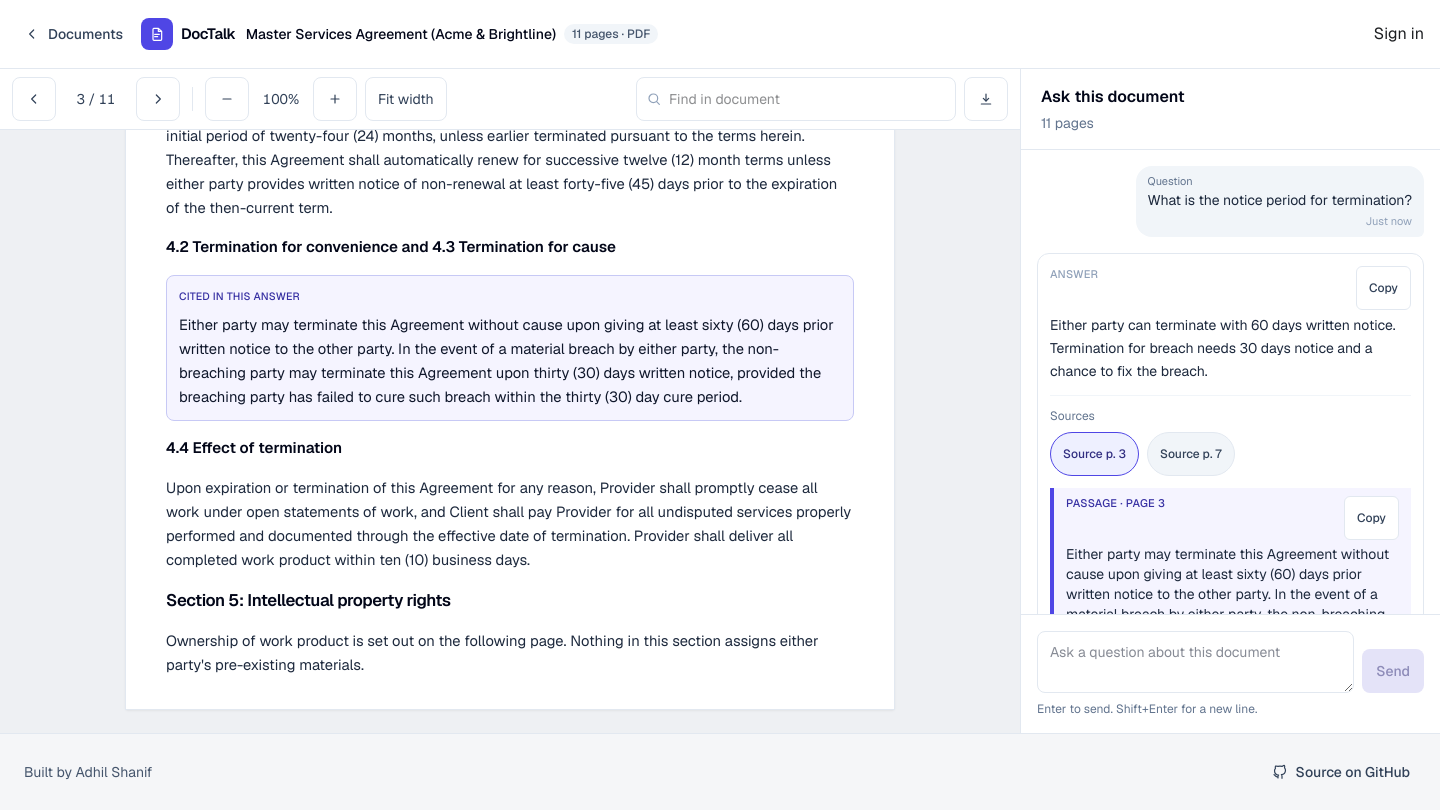
Test: DocumentWorkspace citations › jumps the viewer to the cited page
The width and height of the screenshot is (1440, 810).
(page scrolled)
Expected: the text "3 / 11" is shown, [76,89,116,108]
Expected: the text "11 pages" is shown, [1041,114,1094,132]
Click the button with aria-label "Show source on page 7" at (1191, 454), box [1147,432,1235,476]
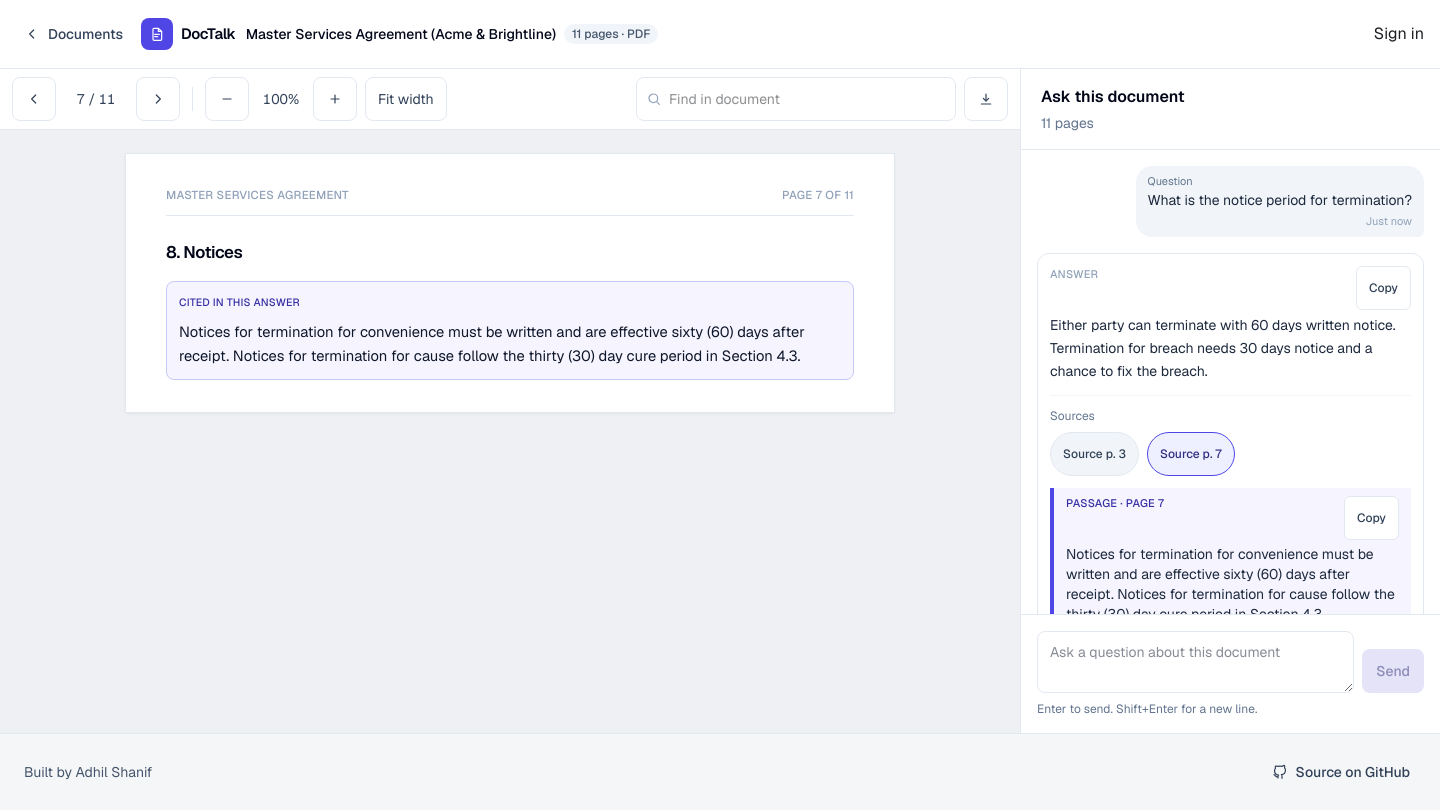
Expected: the text "7 / 11" is shown, [76,89,116,108]
Expected: the element "Page 7" shows "Notices for termination for convenience", [179,322,805,365]
